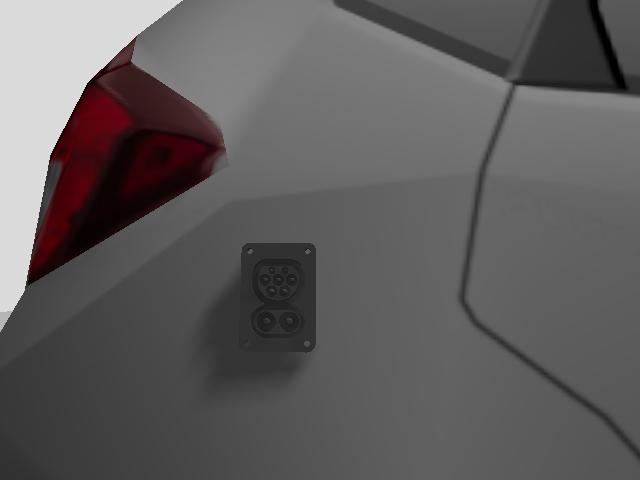EV-socket: (240, 243, 315, 352)
